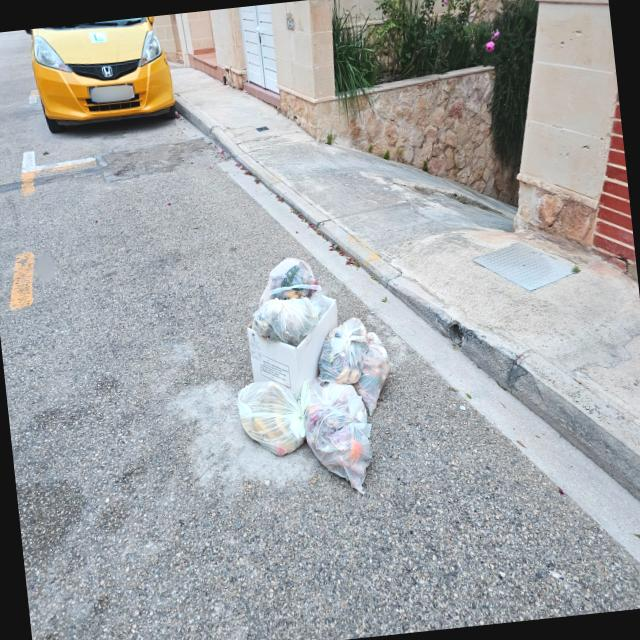white_bag: (298, 373, 379, 500), (232, 376, 311, 462), (313, 314, 374, 384), (354, 328, 395, 418), (249, 294, 319, 339), (257, 253, 319, 300)
